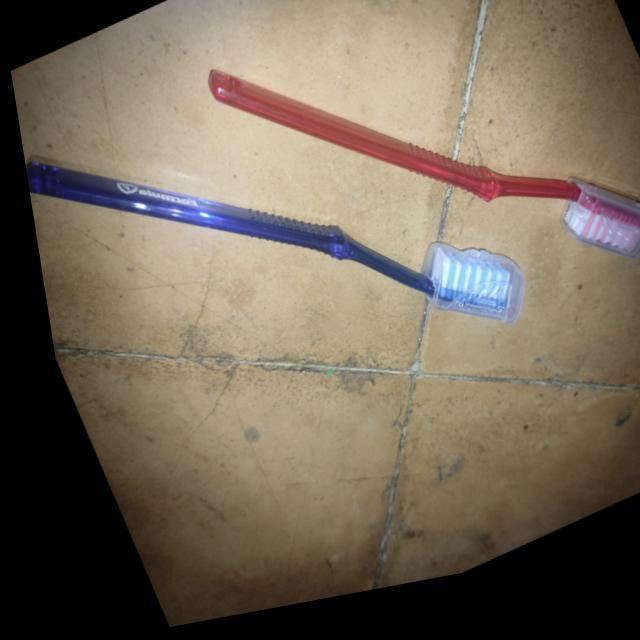toothbrush: (184, 61, 640, 284), (18, 151, 524, 351)
